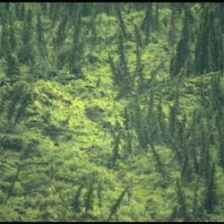neutral: (8, 7, 217, 216)
